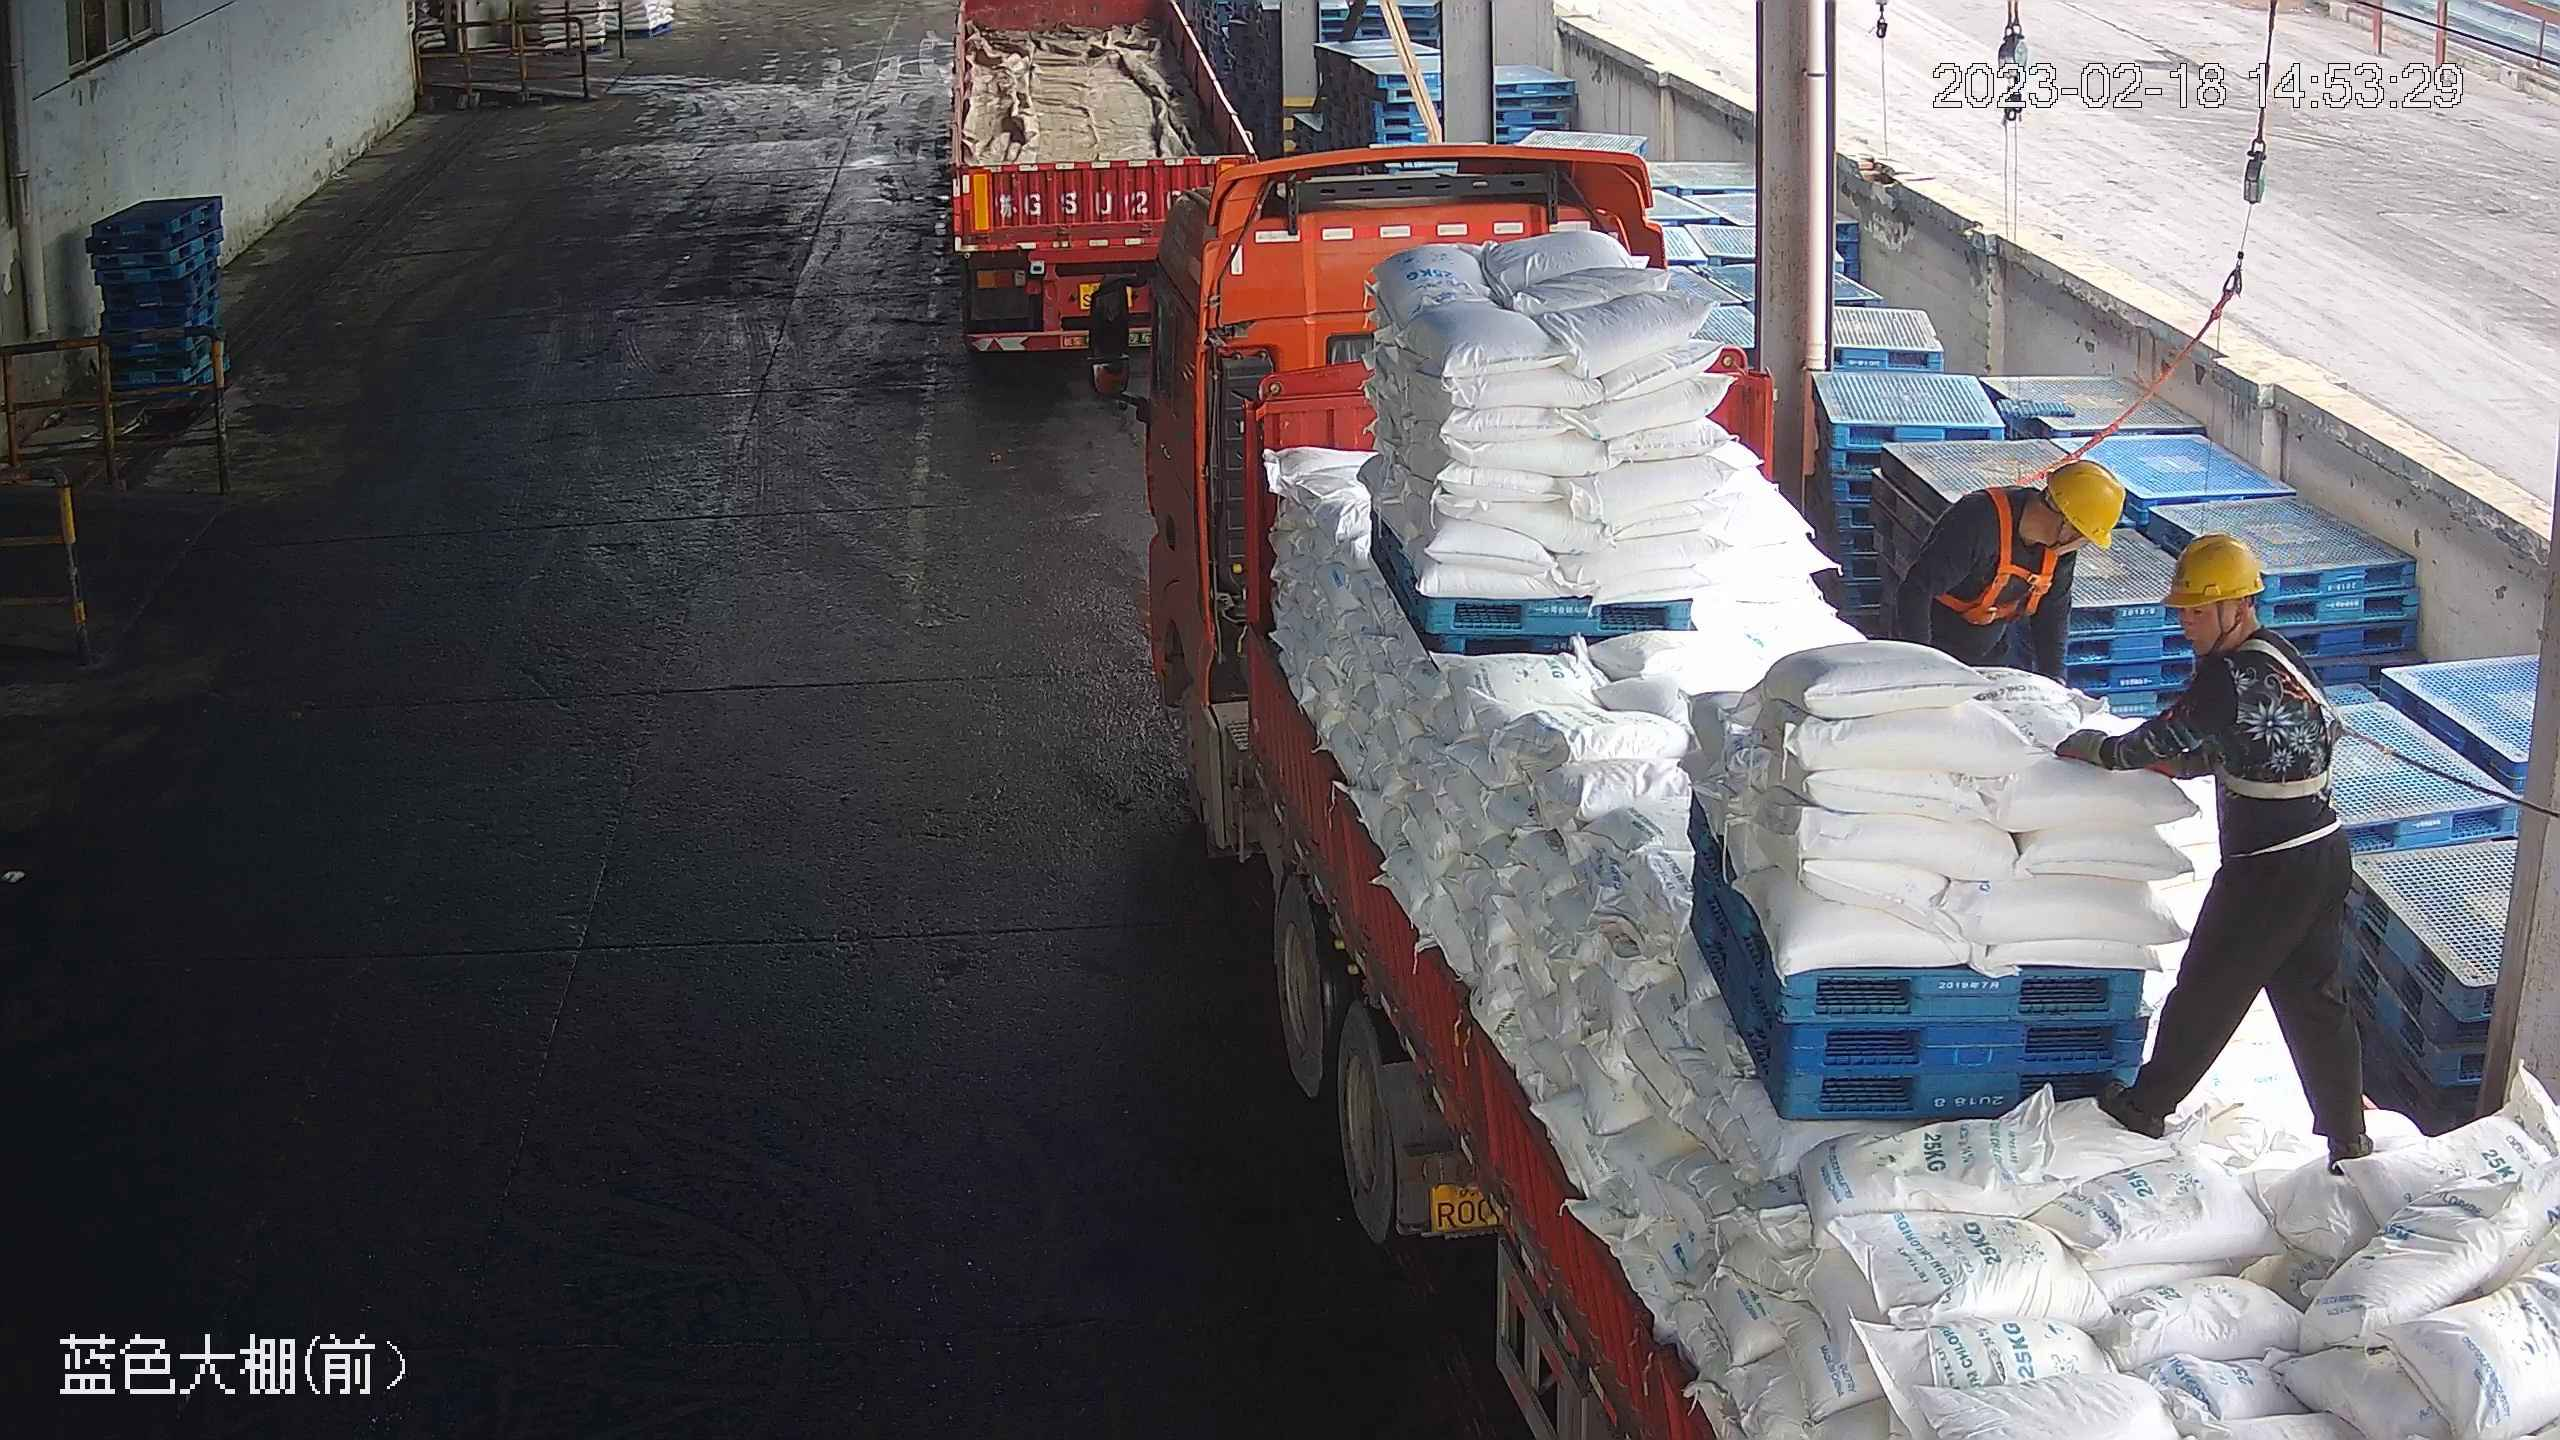belt: (2228, 636, 2348, 799), (1952, 481, 2062, 629)
head: (2154, 529, 2320, 722), (1940, 455, 2126, 587)
helmet: (2158, 529, 2267, 607), (2045, 458, 2127, 553)
people: (2052, 532, 2382, 1166)
truck: (1071, 144, 2560, 1433), (931, 1, 1258, 360)
